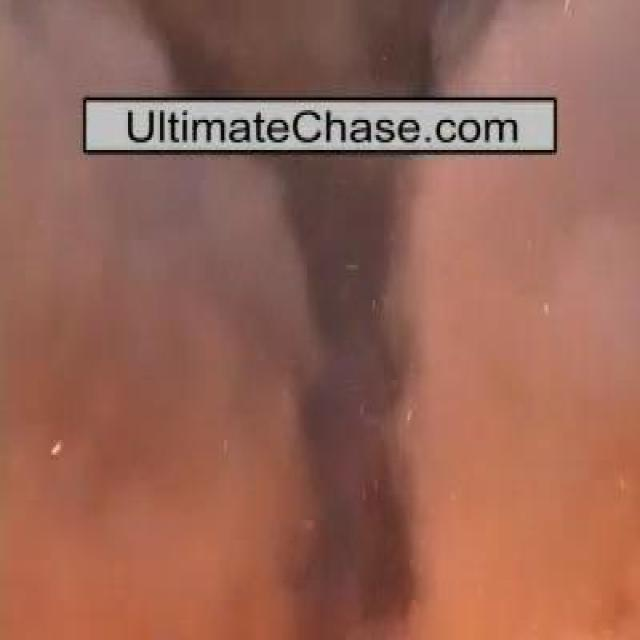Smoke: (135, 161, 566, 564)
